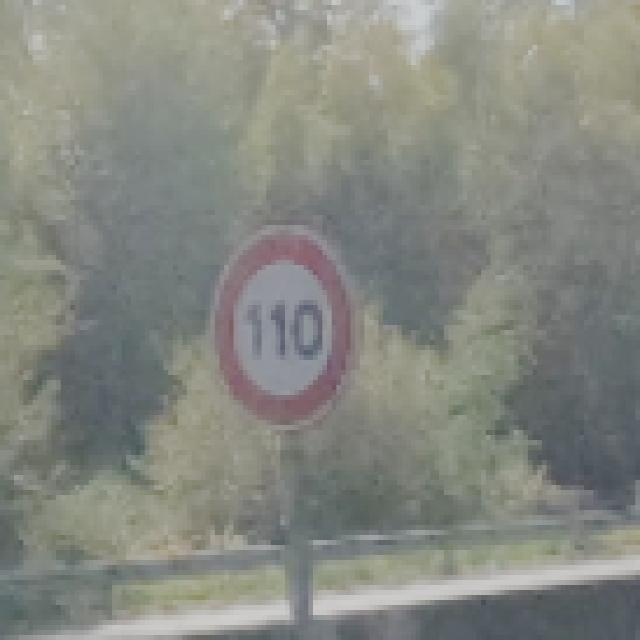speed_110: (208, 222, 361, 433)
